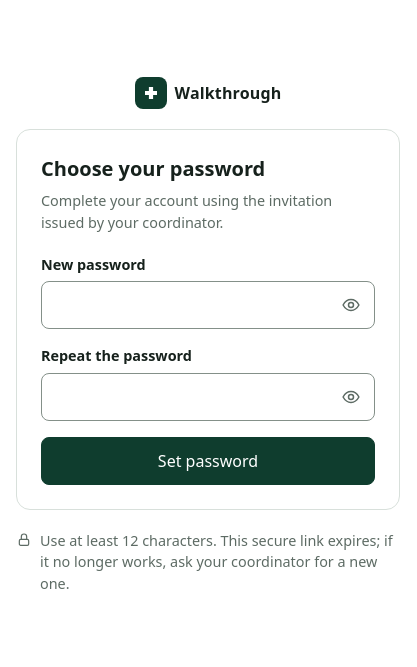
AcceptInvitationRoute › traduce invitation_invalid a un mensaje genérico y no filtra el del servidor
This screenshot has width=417, height=667.
Type "correct horse battery" into the password field labelled "New password".
click(208, 305); type("correct horse battery")  # box [41,281,375,329]
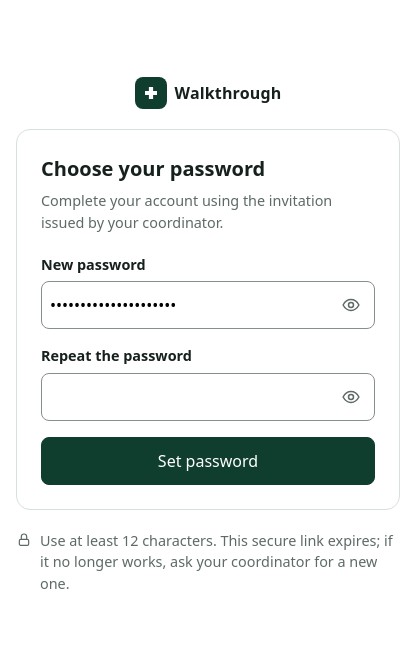
Type "correct horse battery" into the password field labelled "Repeat the password".
click(208, 397); type("correct horse battery")  # box [41,373,375,421]
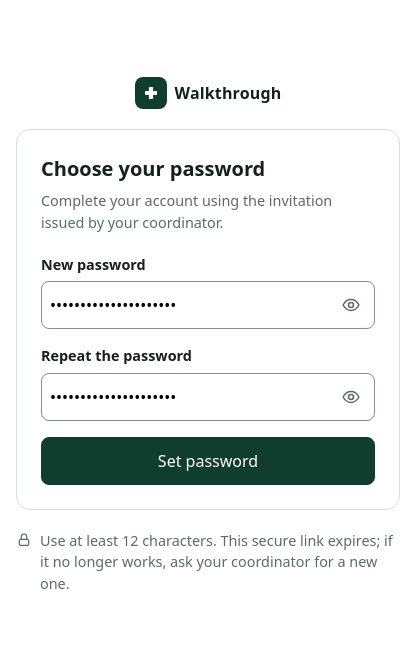
Click the button "Set password".
click(208, 461)  # box [41,437,375,485]
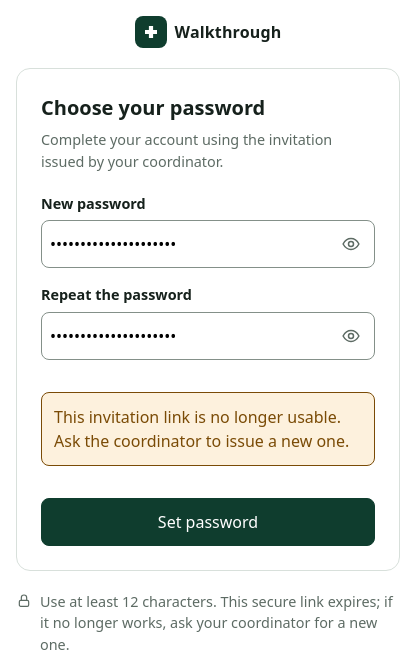
Expected: the message shows "no longer usable", [54,406,349,452]
